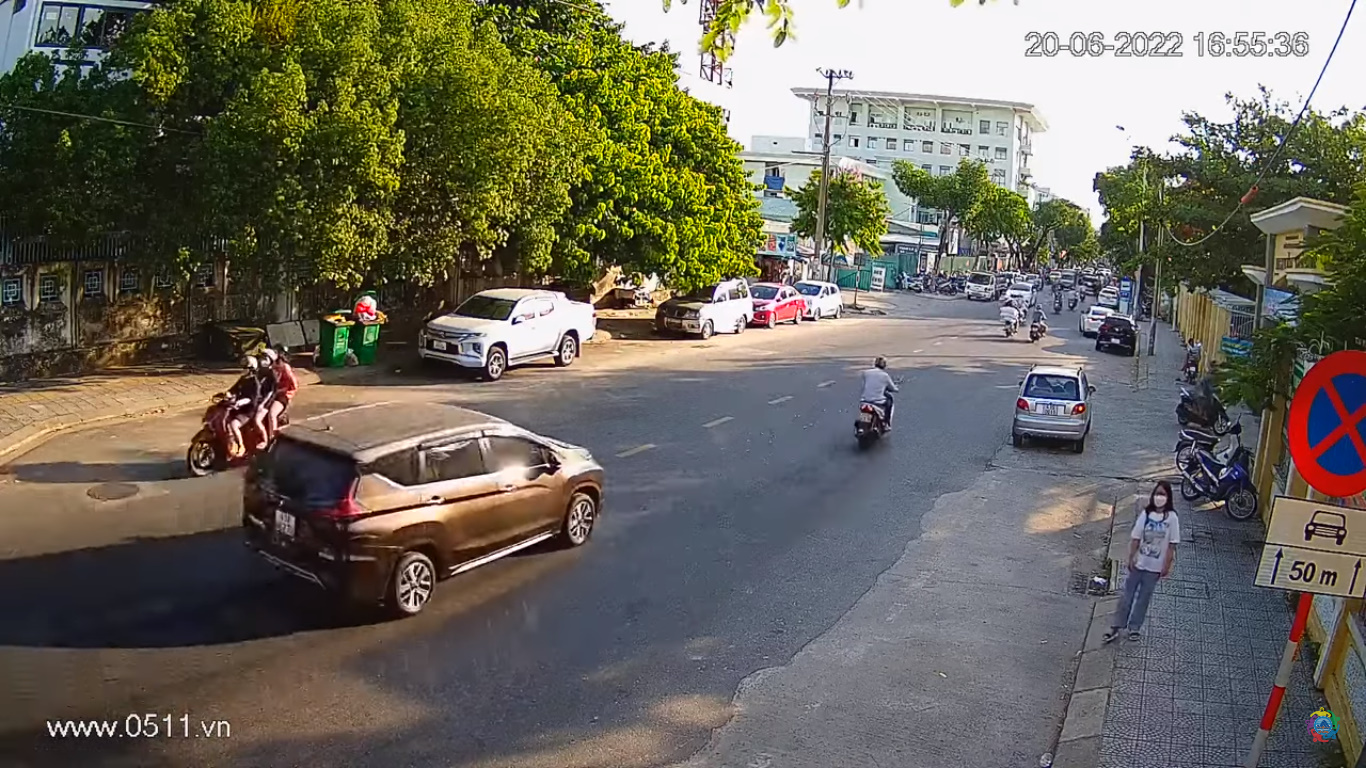car: (245, 400, 608, 615)
